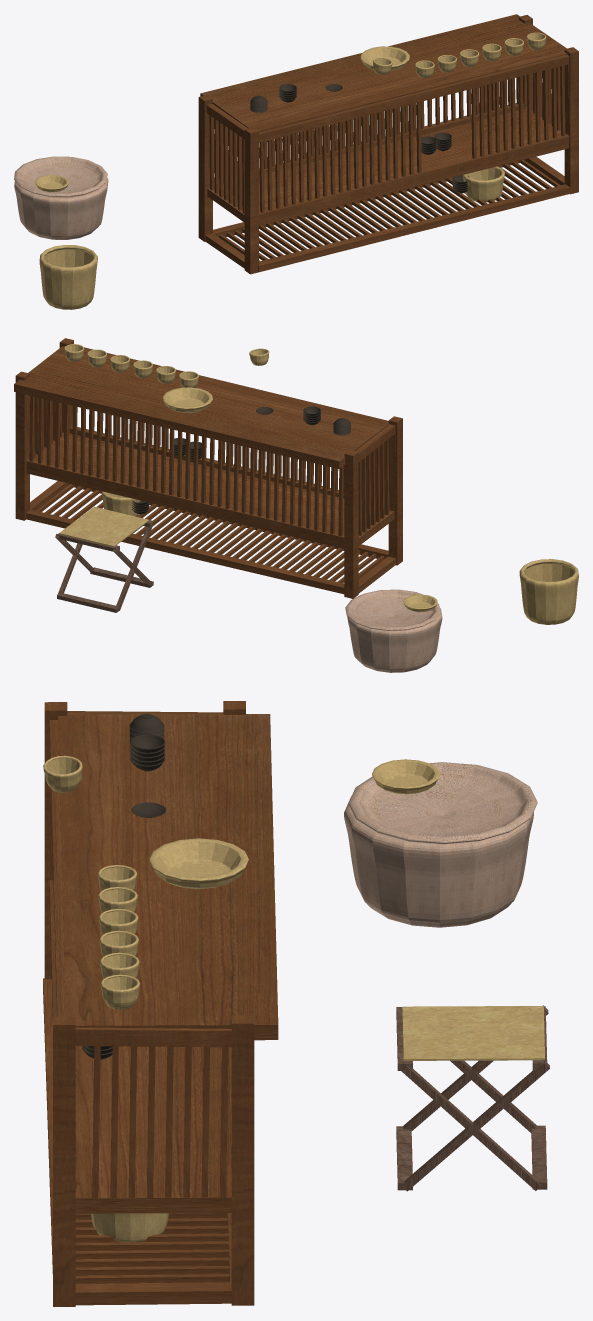
Rendered from 篮子摊01.fbx.
3 renders of one model, top to bottom at view 1: azimuth 30°, elevation 25°; view 2: azimuth 150°, elevation 25°; view 3: azimuth 270°, elevation 25°, orthographic. The views are drawn at different scales.
Parts seen in each view (by area): view 1: qingmo_obj_319 [10484714], qingmo_obj_320 [10484771], qingmo_obj_318 [10484738], qingmo_obj_311 [10484705]; view 2: qingmo_obj_319 [10484714], qingmo_obj_320 [10484771], qingmo_obj_318 [10484738], qingmo_obj_312 [10484708], qingmo_obj_311 [10484705]; view 3: qingmo_obj_319 [10484714], qingmo_obj_318 [10484738], qingmo_obj_320 [10484771], qingmo_obj_312 [10484708], qingmo_obj_311 [10484705].
Part boxes in pixels (box(x1,y1,x2,y2)): qingmo_obj_319 [10484714]: box(198, 14, 578, 274); qingmo_obj_320 [10484771]: box(35, 32, 546, 309); qingmo_obj_318 [10484738]: box(14, 156, 108, 239); qingmo_obj_311 [10484705]: box(250, 84, 469, 193); qingmo_obj_319 [10484714]: box(14, 338, 402, 598); qingmo_obj_320 [10484771]: box(59, 344, 578, 624); qingmo_obj_318 [10484738]: box(345, 589, 442, 672); qingmo_obj_312 [10484708]: box(55, 520, 153, 612); qingmo_obj_311 [10484705]: box(132, 406, 350, 514); qingmo_obj_319 [10484714]: box(43, 701, 278, 1306); qingmo_obj_318 [10484738]: box(344, 762, 537, 927); qingmo_obj_320 [10484771]: box(43, 755, 544, 1242); qingmo_obj_312 [10484708]: box(396, 1005, 549, 1191); qingmo_obj_311 [10484705]: box(82, 714, 166, 1059).
Bounding box in the file's own units: 37.21 × 15.73 × 12.3.
5 materials, 4 textured.
